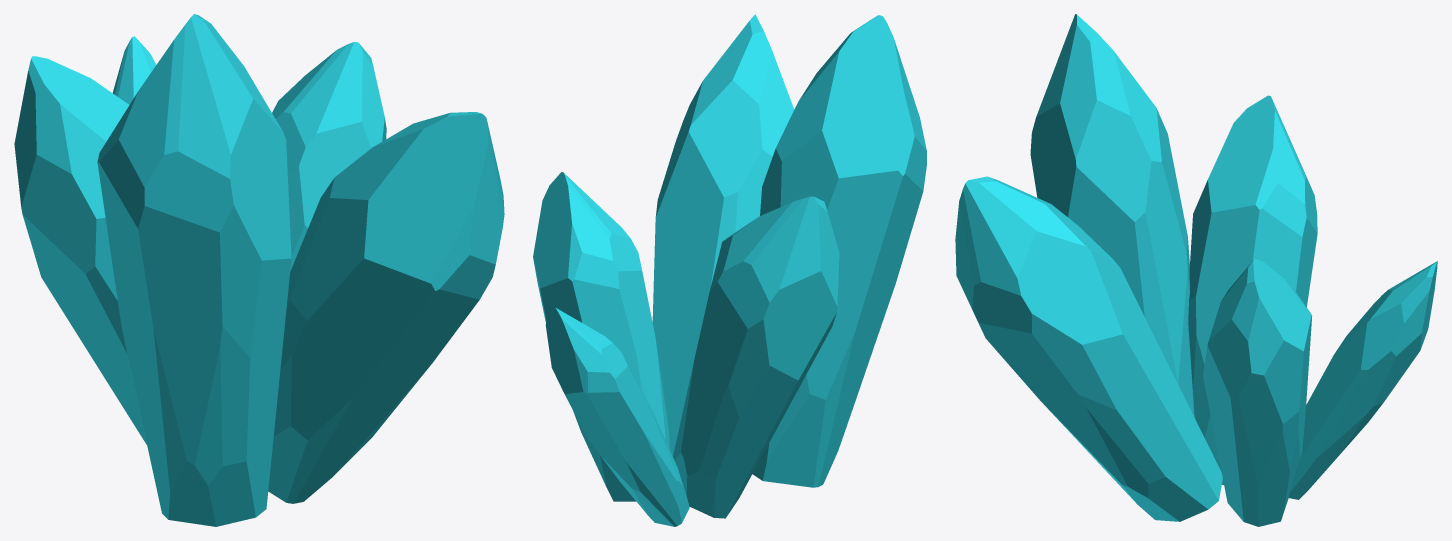
Rendered from Crystal_OctaCut_Group.FBX.
3 renders of one model, left to right at view 1: azimuth 30°, elevation 25°; view 2: azimuth 150°, elevation 25°; view 3: azimuth 270°, elevation 25°, orthographic. The views are drawn at different scales.
Visible parts, largest first — view 1: Object033; view 2: Object033; view 3: Object033.
Part boxes in pixels (x1=…): Object033: x1=14, y1=14, x2=504, y2=526; Object033: x1=533, y1=14, x2=926, y2=526; Object033: x1=955, y1=14, x2=1437, y2=526.
Size of the model in its own units: 23.15 by 34.07 by 33.51.
